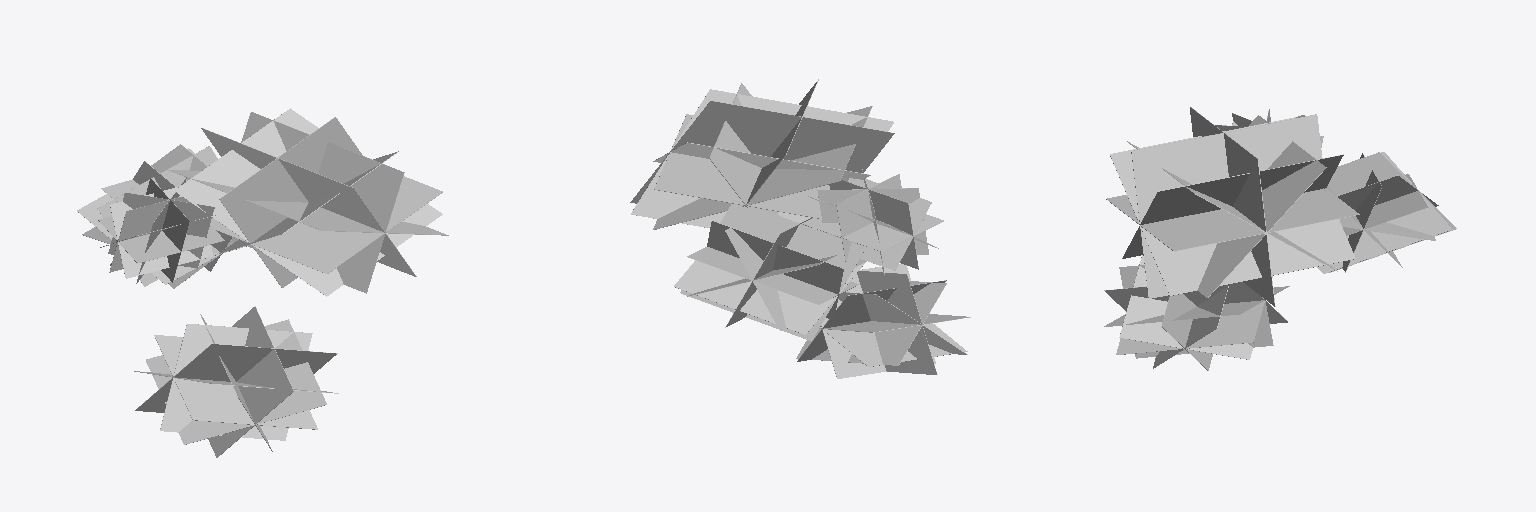
The model's file is LuaSapling-Leaves.obj.
3 renders of one model, left to right at view 1: azimuth 30°, elevation 25°; view 2: azimuth 150°, elevation 25°; view 3: azimuth 270°, elevation 25°, orthographic.
Parts seen in each view (by area): view 1: Plane.003_Plane.017; view 2: Plane.003_Plane.017; view 3: Plane.003_Plane.017.
Boxes of the visible parts, x1=… form: Plane.003_Plane.017: x1=77, y1=108, x2=448, y2=457; Plane.003_Plane.017: x1=630, y1=79, x2=970, y2=378; Plane.003_Plane.017: x1=1104, y1=107, x2=1456, y2=370.
Size of the model in its own units: 16.43 by 13.57 by 16.71.